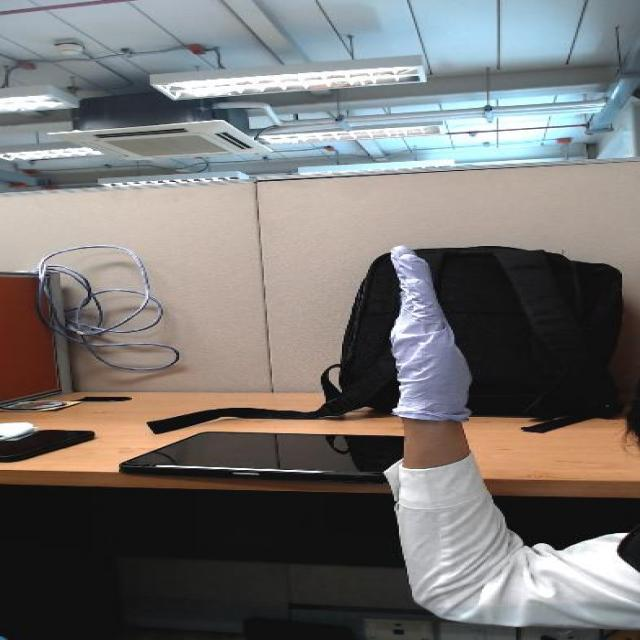Glove: (369, 240, 494, 425)
